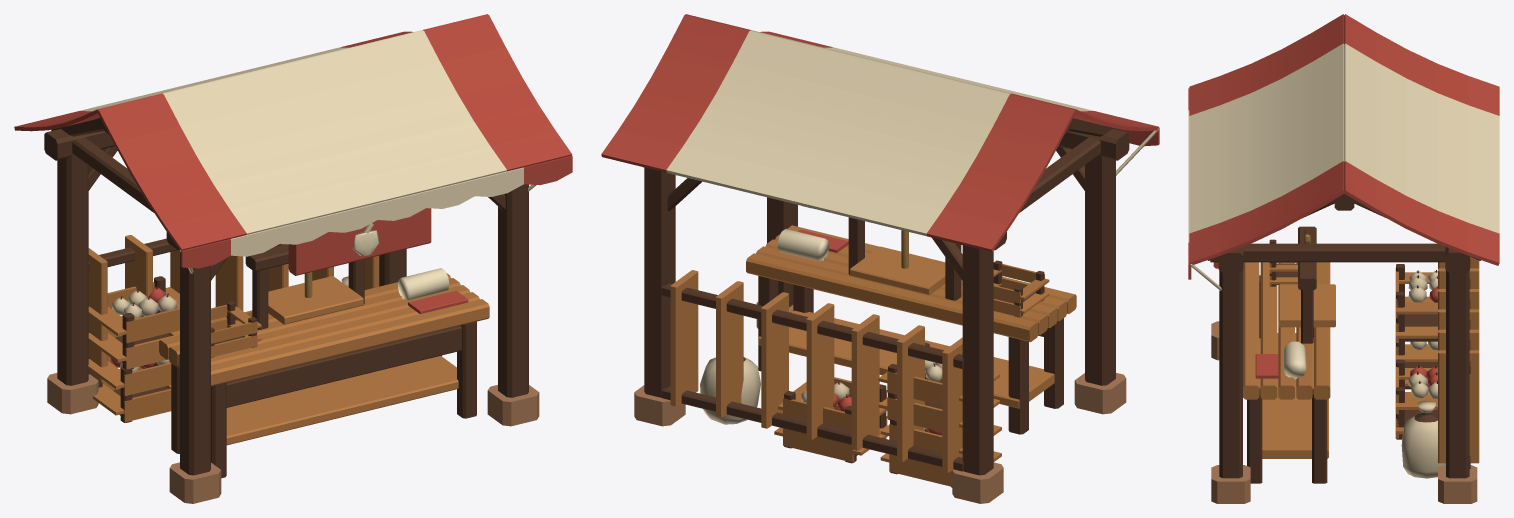
Rendered from station_trade_sunreach_a.glb.
3 renders of one model, left to right at view 1: azimuth 30°, elevation 25°; view 2: azimuth 150°, elevation 25°; view 3: azimuth 270°, elevation 25°, orthographic. The views are drawn at different scales.
Parts seen in each view (by area): view 1: station_trade_sunreach_a_workyard; view 2: station_trade_sunreach_a_workyard; view 3: station_trade_sunreach_a_workyard.
Part boxes in pixels (bbox=[...]): station_trade_sunreach_a_workyard: bbox=[14, 14, 572, 503]; station_trade_sunreach_a_workyard: bbox=[601, 14, 1159, 503]; station_trade_sunreach_a_workyard: bbox=[1188, 14, 1499, 503].
Size of the model in its own units: 4.07 by 3.47 by 3.02.
